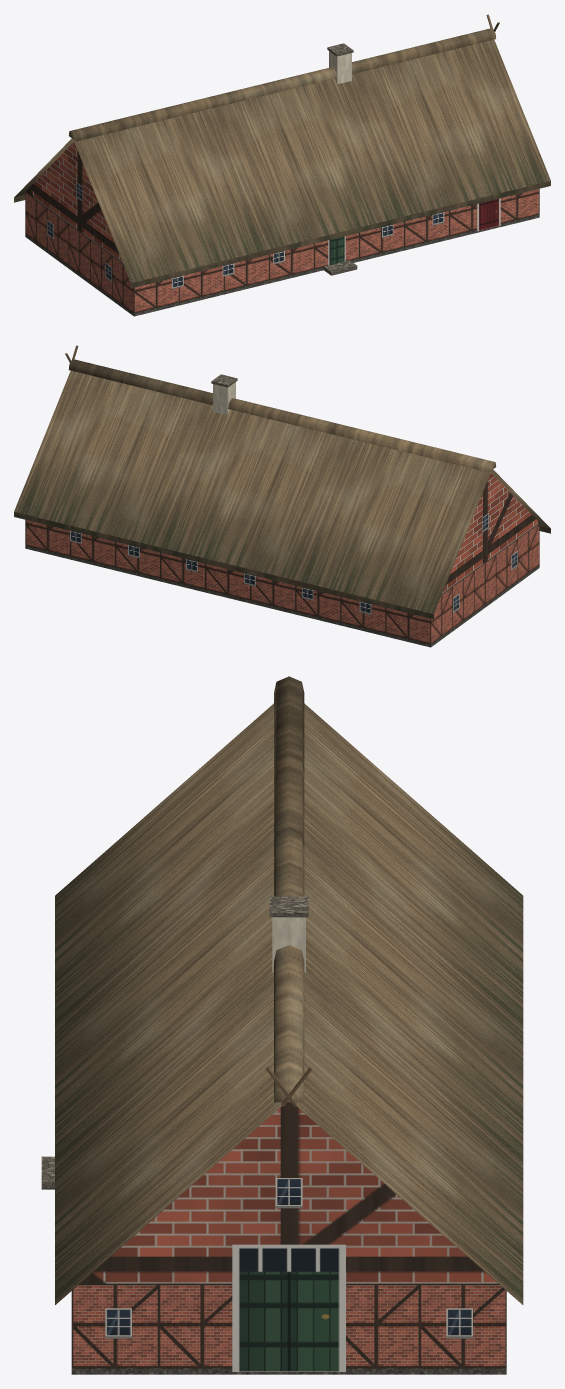
File: SM_Farm_Niedersachsen.fbx
3 views of the same model, one above another, from view 1: azimuth 30°, elevation 25°; view 2: azimuth 150°, elevation 25°; view 3: azimuth 270°, elevation 25° (orthographic). The views are drawn at different scales.
Parts seen in each view (by area): view 1: SM_Farm_Niedersachsen; view 2: SM_Farm_Niedersachsen; view 3: SM_Farm_Niedersachsen.
Part boxes in pixels (box(x1,y1,x2,y2)): SM_Farm_Niedersachsen: box(14, 14, 550, 316); SM_Farm_Niedersachsen: box(14, 345, 550, 647); SM_Farm_Niedersachsen: box(41, 676, 523, 1374).
Bounding box in the file's own units: 2911 × 1440 × 1084.
Materials: 1 (1 with a texture image).
